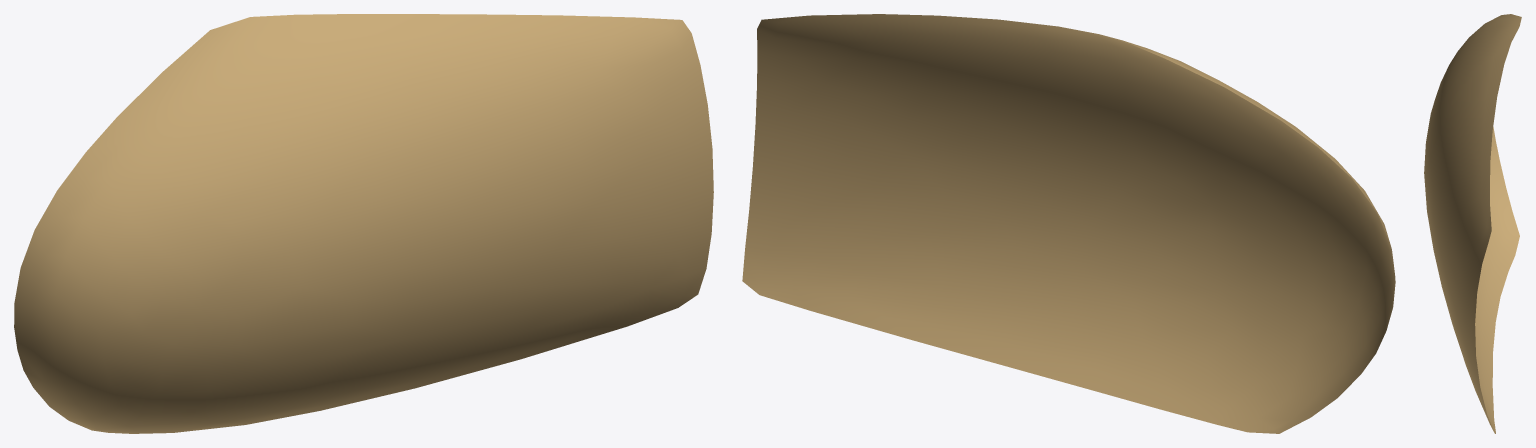
Rendered from seed.glb.
3 views of the same model, side by side, from view 1: azimuth 30°, elevation 25°; view 2: azimuth 150°, elevation 25°; view 3: azimuth 270°, elevation 25° (orthographic). The views are drawn at different scales.
Visible parts, largest first — view 1: seed; view 2: seed; view 3: seed.
Boxes of the visible parts, bbox=[...] form: seed: bbox=[14, 14, 713, 433]; seed: bbox=[742, 14, 1395, 433]; seed: bbox=[1424, 14, 1521, 433].
Size of the model in its own units: 1 by 0.5446 by 0.1743.
